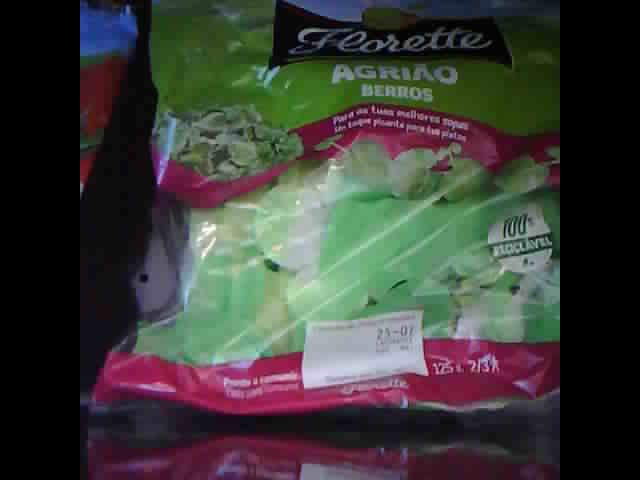florette: (88, 5, 561, 414), (84, 1, 142, 214)
